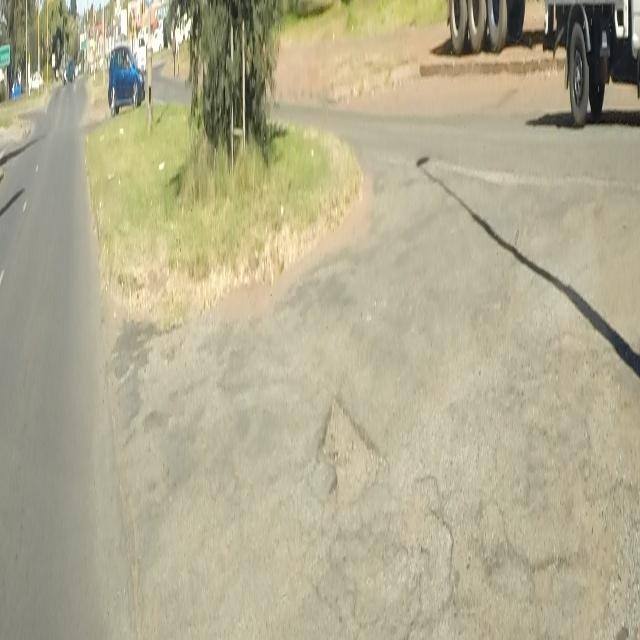pothole: (320, 390, 385, 508)
